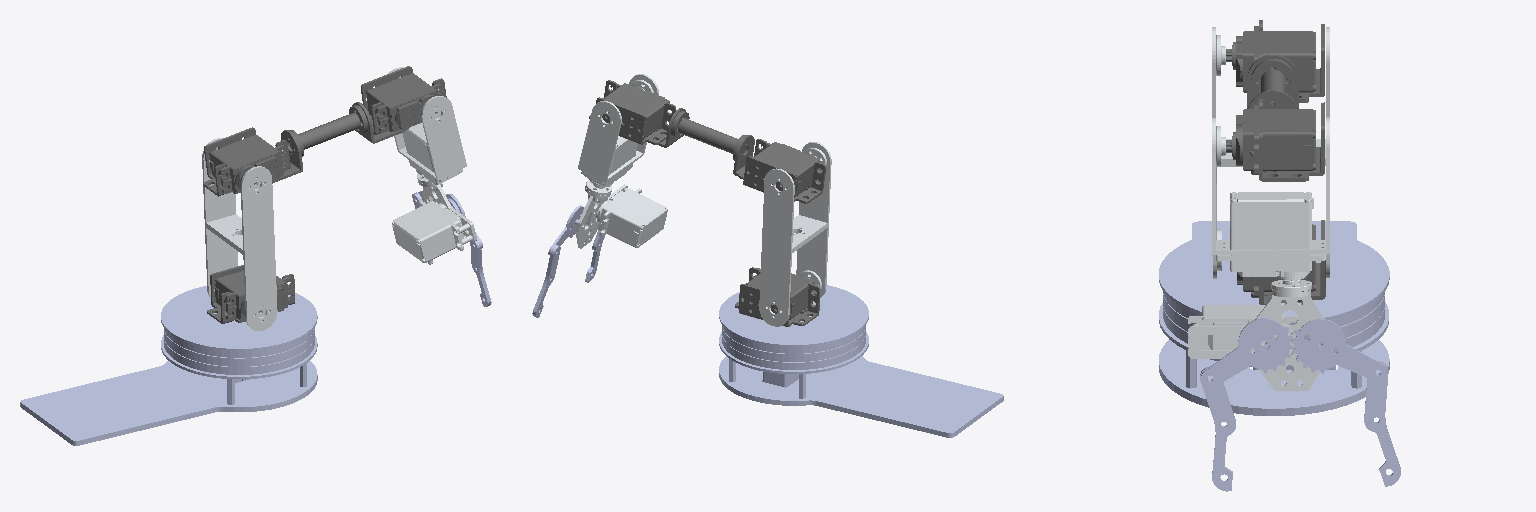
The robot description file, URDF, robot "six_servo":
<?xml version="1.0" encoding="utf-8" ?>
<!-- This URDF was automatically created by SolidWorks to URDF Exporter! Originally created by [author] ([email redacted]) 
     Commit Version: 1.6.0-1-g15f4949  Build Version: 1.6.7594.29634
     For more information, please see http://wiki.ros.org/sw_urdf_exporter -->
<robot name="six_servo">
    <link name="base_link">
        <inertial>
            <origin xyz="-0.018875 0.0012578 0.021854" rpy="0 0 0" />
            <mass value="0.19205" />
            <inertia ixx="0.00016092" ixy="2.2769E-06" ixz="-1.8938E-05" iyy="0.00040613" iyz="2.3218E-07" izz="0.0005467" />
        </inertial>
        <visual>
            <origin xyz="0 0 0" rpy="-1.5708 0 0" />
            <geometry>
                <mesh filename="package://six_servo/meshes/base_link.STL" />
            </geometry>
            <material name="">
                <color rgba="0.79216 0.81961 0.93333 1" />
            </material>
        </visual>
        <collision>
            <origin xyz="0 0 0" rpy="0 0 0" />
            <geometry>
                <mesh filename="package://six_servo/meshes/base_link.STL" />
            </geometry>
        </collision>
    </link>
    <link name="link1">
        <inertial>
            <origin xyz="0.019845 -0.018933 -0.01119" rpy="0 0 0" />
            <mass value="0.045014" />
            <inertia ixx="4.7182E-06" ixy="3.953E-08" ixz="1.6436E-09" iyy="9.8584E-06" iyz="-4.236E-07" izz="1.0906E-05" />
        </inertial>
        <visual>
            <origin xyz="0 0 0" rpy="0 0 0" />
            <geometry>
                <mesh filename="package://six_servo/meshes/link1.STL" />
            </geometry>
            <material name="">
                <color rgba="0.50196 0.50196 0.50196 1" />
            </material>
        </visual>
        <collision>
            <origin xyz="0 0 0" rpy="0 0 0" />
            <geometry>
                <mesh filename="package://six_servo/meshes/link1.STL" />
            </geometry>
        </collision>
    </link>
    <joint name="joint1" type="revolute">
        <!--0.0076655 -0.05 -0.014602-->
        <origin xyz="-0.0076655 -0.014602 0.05" rpy="-3.14 -0.040154 0" />
        <parent link="base_link" />
        <child link="link1" />
        <axis xyz="0 0 1" />
        <limit lower="-1.5708" upper="1.5708" effort="100" velocity="1" />
    </joint>
    <link name="link2">
        <inertial>
            <origin xyz="-9.6446E-05 -0.051 0.011223" rpy="0 0 0" />
            <mass value="0.049995" />
            <inertia ixx="4.6603E-05" ixy="-3.0854E-08" ixz="-1.1117E-20" iyy="3.0288E-05" iyz="-5.5477E-21" izz="2.134E-05" />
        </inertial>
        <visual>
            <origin xyz="0 0 0" rpy="0 0 0" />
            <geometry>
                <mesh filename="package://six_servo/meshes/link2.STL" />
            </geometry>
            <material name="">
                <color rgba="0.89412 0.91373 0.92941 1" />
            </material>
        </visual>
        <collision>
            <origin xyz="0 0 0" rpy="0 0 0" />
            <geometry>
                <mesh filename="package://six_servo/meshes/link2.STL" />
            </geometry>
        </collision>
    </link>
    <joint name="joint2" type="revolute">
        <origin xyz="0.01 0 -0.013292" rpy="1.5708 0 0" />
        <parent link="link1" />
        <child link="link2" />
        <axis xyz="0 0 1" />
        <limit lower="-1.52" upper="1.52" effort="100" velocity="1" />
    </joint>
    <link name="link3">
        <inertial>
            <origin xyz="0.07528 -0.018025 0.002122" rpy="0 0 0" />
            <mass value="0.11189" />
            <inertia ixx="1.1218E-05" ixy="1.0566E-10" ixz="3.2873E-09" iyy="2.5125E-05" iyz="-8.4719E-07" izz="2.7114E-05" />
        </inertial>
        <visual>
            <origin xyz="0 0 0" rpy="0 0 0" />
            <geometry>
                <mesh filename="package://six_servo/meshes/link3.STL" />
            </geometry>
            <material name="">
                <color rgba="0.50196 0.50196 0.50196 1" />
            </material>
        </visual>
        <collision>
            <origin xyz="0 0 0" rpy="0 0 0" />
            <geometry>
                <mesh filename="package://six_servo/meshes/link3.STL" />
            </geometry>
        </collision>
    </link>
    <joint name="joint3" type="revolute">
        <origin xyz="-0.00019289 -0.102 0" rpy="-1.5708 0 -0.099914" />
        <parent link="link2" />
        <child link="link3" />
        <axis xyz="0 1 0" />
        <limit lower="-1.047" upper="2.093" effort="100" velocity="1" />
    </joint>
    <link name="link4">
        <inertial>
            <origin xyz="-0.012388 0.035123 1.8331E-05" rpy="0 0 0" />
            <mass value="0.051687" />
            <inertia ixx="1.0059E-05" ixy="3.877E-08" ixz="6.0397E-13" iyy="1.9542E-05" iyz="3.8857E-09" izz="2.5393E-05" />
        </inertial>
        <visual>
            <origin xyz="0 0 0" rpy="0 0 0" />
            <geometry>
                <mesh filename="package://six_servo/meshes/link4.STL" />
            </geometry>
            <material name="">
                <color rgba="0.89804 0.91765 0.92941 1" />
            </material>
        </visual>
        <collision>
            <origin xyz="0 0 0" rpy="0 0 0" />
            <geometry>
                <mesh filename="package://six_servo/meshes/link4.STL" />
            </geometry>
        </collision>
    </link>
    <joint name="joint4" type="revolute">
        <origin xyz="0.15057 0 0" rpy="1.6698 0 1.5708" />
        <parent link="link3" />
        <child link="link4" />
        <axis xyz="1 0 0" />
        <limit lower="-0.7854" upper="2.3546" effort="100" velocity="1" />
    </joint>
    <link name="link5">
        <inertial>
            <origin xyz="-0.016771 -0.019023 -0.026447" rpy="0 0 0" />
            <mass value="0.039432" />
            <inertia ixx="7.2715E-06" ixy="-7.6833E-08" ixz="3.0175E-10" iyy="2.3347E-06" iyz="8.7991E-09" izz="6.5466E-06" />
        </inertial>
        <visual>
            <origin xyz="0 0 0" rpy="0 0 0" />
            <geometry>
                <mesh filename="package://six_servo/meshes/link5.STL" />
            </geometry>
            <material name="">
                <color rgba="0.89412 0.91373 0.92941 1" />
            </material>
        </visual>
        <collision>
            <origin xyz="0 0 0" rpy="0 0 0" />
            <geometry>
                <mesh filename="package://six_servo/meshes/link5.STL" />
            </geometry>
        </collision>
    </link>
    <joint name="joint5" type="revolute">
        <origin xyz="-0.02325 0.066804 3.5745E-05" rpy="-1.5708 -1.566 3.1416" />
        <parent link="link4" />
        <child link="link5" />
        <axis xyz="0 0 1" />
        <limit lower="-1.5708" upper="1.5708" effort="100" velocity="1" />
    </joint>
    <link name="link6_1">
        <inertial>
            <origin xyz="0.00011182 -0.0027632 0.0047626" rpy="0 0 0" />
            <mass value="0.0034196" />
            <inertia ixx="2.6556E-07" ixy="-4.9134E-09" ixz="9.2644E-23" iyy="9.8312E-08" iyz="3.4328E-22" izz="3.5886E-07" />
        </inertial>
        <visual>
            <origin xyz="0 0 0" rpy="0 0 0" />
            <geometry>
                <mesh filename="package://six_servo/meshes/link6_1.STL" />
            </geometry>
            <material name="">
                <color rgba="0.79216 0.81961 0.93333 1" />
            </material>
        </visual>
        <collision>
            <origin xyz="0 0 0" rpy="0 0 0" />
            <geometry>
                <mesh filename="package://six_servo/meshes/link6_1.STL" />
            </geometry>
        </collision>
    </link>
    <joint name="joint6_1" type="continuous">
        <origin xyz="0 -0.0135 -0.029571" rpy="1.5708 0.98921 1.5708" />
        <parent link="link5" />
        <child link="link6_1" />
        <axis xyz="0 0 1" />
        <limit lower="0" upper="0" effort="100" velocity="1" />
    </joint>
    <link name="link7_1">
        <inertial>
            <origin xyz="-0.0062954 0.022738 0.014232" rpy="0 0 0" />
            <mass value="0.0014839" />
            <inertia ixx="4.3406E-07" ixy="7.4037E-08" ixz="7.9409E-23" iyy="2.9089E-08" iyz="-4.0739E-22" izz="4.6093E-07" />
        </inertial>
        <visual>
            <origin xyz="0 0 0" rpy="0 0 0" />
            <geometry>
                <mesh filename="package://six_servo/meshes/link7_1.STL" />
            </geometry>
            <material name="">
                <color rgba="0.79216 0.81961 0.93333 1" />
            </material>
        </visual>
        <collision>
            <origin xyz="0 0 0" rpy="0 0 0" />
            <geometry>
                <mesh filename="package://six_servo/meshes/link7_1.STL" />
            </geometry>
        </collision>
    </link>
    <joint name="joint7_1" type="continuous">
        <origin xyz="-0.00019564 -0.031049 -0.010482" rpy="0 0 -2.2378" />
        <parent link="link6_1" />
        <child link="link7_1" />
        <axis xyz="0 0 1" />
        <limit lower="0" upper="0" effort="100" velocity="1" />
    </joint>
    <link name="link6_2">
        <inertial>
            <origin xyz="0.00026689 -0.0065013 -0.011645" rpy="0 0 0" />
            <mass value="0.0014534" />
            <inertia ixx="2.1584E-07" ixy="-4.8715E-09" ixz="2.9779E-23" iyy="4.7208E-08" iyz="2.068E-23" izz="2.62E-07" />
        </inertial>
        <visual>
            <origin xyz="0 0 0" rpy="0 0 0" />
            <geometry>
                <mesh filename="package://six_servo/meshes/link6_2.STL" />
            </geometry>
            <material name="">
                <color rgba="0.79216 0.81961 0.93333 1" />
            </material>
        </visual>
        <collision>
            <origin xyz="0 0 0" rpy="0 0 0" />
            <geometry>
                <mesh filename="package://six_servo/meshes/link6_2.STL" />
            </geometry>
        </collision>
    </link>
    <joint name="joint6_2" type="continuous">
        <origin xyz="-0.0054227 0.014 -0.029946" rpy="1.5708 1.1052 -1.5708" />
        <parent link="link5" />
        <child link="link6_2" />
        <axis xyz="0 0 1" />
        <limit lower="0" upper="0" effort="100" velocity="1" />
    </joint>
    <link name="link7_2">
        <inertial>
            <origin xyz="-0.0062954 0.022738 -0.01465" rpy="0 0 0" />
            <mass value="0.0014839" />
            <inertia ixx="4.3406E-07" ixy="7.4037E-08" ixz="-2.068E-23" iyy="2.9089E-08" iyz="-3.3294E-23" izz="4.6093E-07" />
        </inertial>
        <visual>
            <origin xyz="0 0 0" rpy="0 0 0" />
            <geometry>
                <mesh filename="package://six_servo/meshes/link7_2.STL" />
            </geometry>
            <material name="">
                <color rgba="0.79216 0.81961 0.93333 1" />
            </material>
        </visual>
        <collision>
            <origin xyz="0 0 0" rpy="0 0 0" />
            <geometry>
                <mesh filename="package://six_servo/meshes/link7_2.STL" />
            </geometry>
        </collision>
    </link>
    <joint name="joint7_2" type="continuous">
        <origin xyz="-0.00019564 -0.031049 0.005427" rpy="0 0 -2.3584" />
        <parent link="link6_2" />
        <child link="link7_2" />
        <axis xyz="0 0 1" />
        <limit lower="0" upper="0" effort="100" velocity="1" />
    </joint>
    <transmission name="trans_joint1">
        <type>transmission_interface/SimpleTransmission</type>
        <joint name="joint1">
            <hardwareInterface>hardware_interface/EffortJointInterface</hardwareInterface>
        </joint>
        <actuator name="joint1_motor">
            <hardwareInterface>hardware_interface/EffortJointInterface</hardwareInterface>
            <mechanicalReduction>1</mechanicalReduction>
        </actuator>
    </transmission>
    <transmission name="trans_joint2">
        <type>transmission_interface/SimpleTransmission</type>
        <joint name="joint2">
            <hardwareInterface>hardware_interface/EffortJointInterface</hardwareInterface>
        </joint>
        <actuator name="joint2_motor">
            <hardwareInterface>hardware_interface/EffortJointInterface</hardwareInterface>
            <mechanicalReduction>1</mechanicalReduction>
        </actuator>
    </transmission>
    <transmission name="trans_joint3">
        <type>transmission_interface/SimpleTransmission</type>
        <joint name="joint3">
            <hardwareInterface>hardware_interface/EffortJointInterface</hardwareInterface>
        </joint>
        <actuator name="joint3_motor">
            <hardwareInterface>hardware_interface/EffortJointInterface</hardwareInterface>
            <mechanicalReduction>1</mechanicalReduction>
        </actuator>
    </transmission>
    <transmission name="trans_joint4">
        <type>transmission_interface/SimpleTransmission</type>
        <joint name="joint4">
            <hardwareInterface>hardware_interface/EffortJointInterface</hardwareInterface>
        </joint>
        <actuator name="joint4_motor">
            <hardwareInterface>hardware_interface/EffortJointInterface</hardwareInterface>
            <mechanicalReduction>1</mechanicalReduction>
        </actuator>
    </transmission>
    <transmission name="trans_joint5">
        <type>transmission_interface/SimpleTransmission</type>
        <joint name="joint5">
            <hardwareInterface>hardware_interface/EffortJointInterface</hardwareInterface>
        </joint>
        <actuator name="joint5_motor">
            <hardwareInterface>hardware_interface/EffortJointInterface</hardwareInterface>
            <mechanicalReduction>1</mechanicalReduction>
        </actuator>
    </transmission>
    <transmission name="trans_joint6_1">
        <type>transmission_interface/SimpleTransmission</type>
        <joint name="joint6_1">
            <hardwareInterface>hardware_interface/EffortJointInterface</hardwareInterface>
        </joint>
        <actuator name="joint6_1_motor">
            <hardwareInterface>hardware_interface/EffortJointInterface</hardwareInterface>
            <mechanicalReduction>1</mechanicalReduction>
        </actuator>
    </transmission>
    <transmission name="trans_joint7_1">
        <type>transmission_interface/SimpleTransmission</type>
        <joint name="joint7_1">
            <hardwareInterface>hardware_interface/EffortJointInterface</hardwareInterface>
        </joint>
        <actuator name="joint7_1_motor">
            <hardwareInterface>hardware_interface/EffortJointInterface</hardwareInterface>
            <mechanicalReduction>1</mechanicalReduction>
        </actuator>
    </transmission>
    <transmission name="trans_joint6_2">
        <type>transmission_interface/SimpleTransmission</type>
        <joint name="joint6_2">
            <hardwareInterface>hardware_interface/EffortJointInterface</hardwareInterface>
        </joint>
        <actuator name="joint6_2_motor">
            <hardwareInterface>hardware_interface/EffortJointInterface</hardwareInterface>
            <mechanicalReduction>1</mechanicalReduction>
        </actuator>
    </transmission>
    <transmission name="trans_joint7_2">
        <type>transmission_interface/SimpleTransmission</type>
        <joint name="joint7_2">
            <hardwareInterface>hardware_interface/EffortJointInterface</hardwareInterface>
        </joint>
        <actuator name="joint7_2_motor">
            <hardwareInterface>hardware_interface/EffortJointInterface</hardwareInterface>
            <mechanicalReduction>1</mechanicalReduction>
        </actuator>
    </transmission>
    <gazebo>
        <plugin name="gazebo_ros_control">
            <robotNamespace>/</robotNamespace>
        </plugin>
    </gazebo>
</robot>

--- Facts derived from the render (not from the file) ---
The picture shows the robot from 3 angles, left to right: view 1: azimuth 30°, elevation 25°; view 2: azimuth 150°, elevation 25°; view 3: azimuth 270°, elevation 25°; orthographic projection.
Model six_servo with 10 links and 9 joints (5 revolute, 4 continuous), rooted at base_link, posed every joint at zero.
Links seen in each view (by area): view 1: base_link, link3, link2, link4, link5, link1, link7_1; view 2: base_link, link3, link2, link5, link4, link1, link7_2; view 3: base_link, link3, link4, link5, link6_1, link6_2, link7_1, link7_2, link2, link1.
Boxes of the visible links, x1=… form: base_link: x1=20, y1=286, x2=317, y2=445; link3: x1=203, y1=66, x2=446, y2=196; link2: x1=202, y1=138, x2=277, y2=330; link4: x1=388, y1=67, x2=466, y2=184; link5: x1=392, y1=174, x2=476, y2=262; link1: x1=207, y1=265, x2=294, y2=323; link7_1: x1=470, y1=239, x2=491, y2=306; base_link: x1=719, y1=285, x2=1003, y2=437; link3: x1=589, y1=80, x2=825, y2=203; link2: x1=759, y1=142, x2=831, y2=326; link5: x1=576, y1=180, x2=667, y2=248; link4: x1=578, y1=74, x2=658, y2=186; link1: x1=735, y1=267, x2=819, y2=326; link7_2: x1=532, y1=245, x2=560, y2=317; base_link: x1=1159, y1=221, x2=1389, y2=415; link3: x1=1226, y1=20, x2=1324, y2=181; link4: x1=1212, y1=117, x2=1329, y2=280; link5: x1=1188, y1=279, x2=1332, y2=390; link6_1: x1=1201, y1=318, x2=1293, y2=387; link6_2: x1=1291, y1=319, x2=1387, y2=381; link7_1: x1=1200, y1=367, x2=1235, y2=491; link7_2: x1=1364, y1=361, x2=1400, y2=486; link2: x1=1212, y1=27, x2=1329, y2=278; link1: x1=1237, y1=220, x2=1325, y2=304.
Bounding box of the posed robot: 0.351 × 0.1176 × 0.2012 m (x, y, z).
10 mesh visuals loaded from 10 distinct referenced files (10 binary STL).